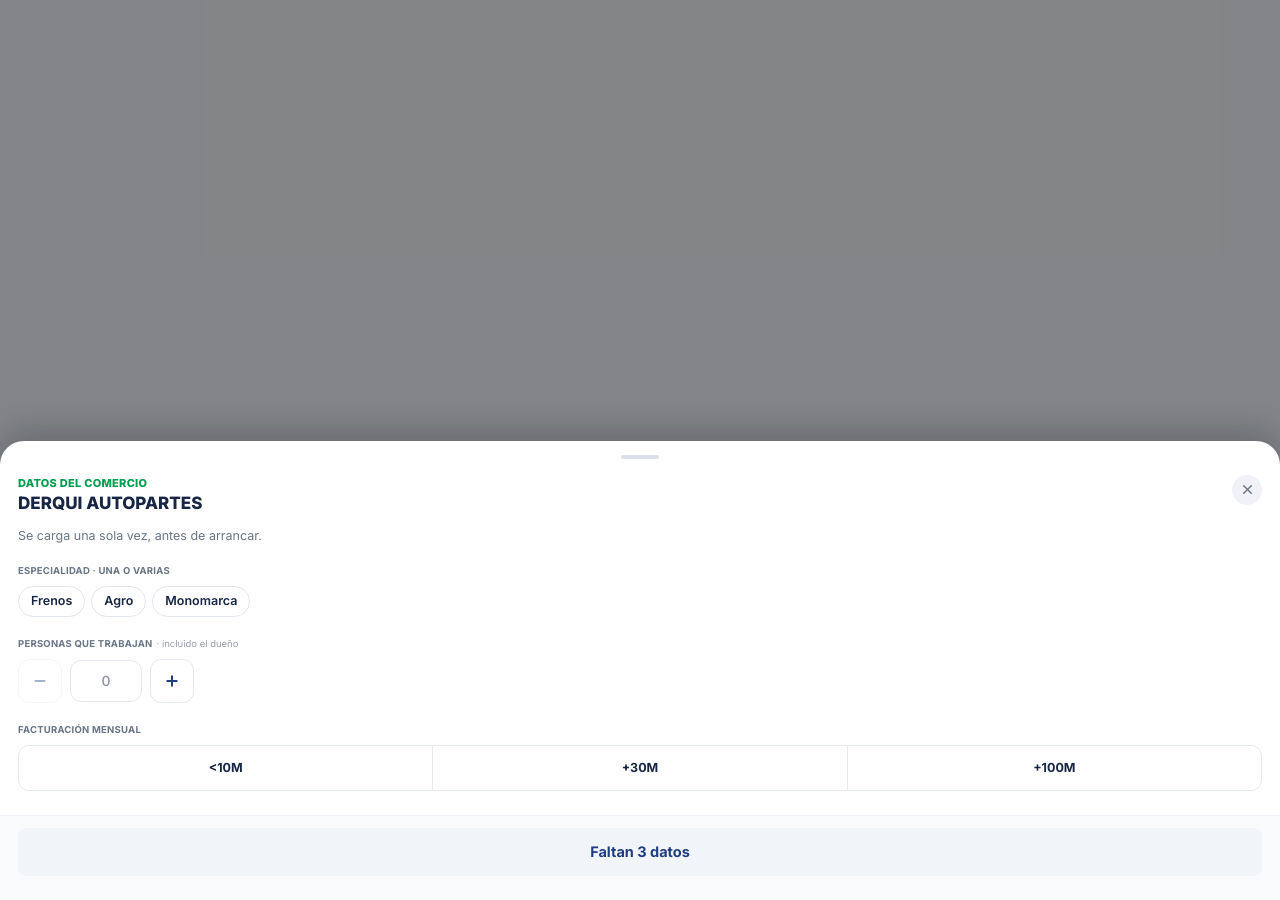
el stepper no pasa del máximo del catálogo, y sigue sobre un valor tipeado a mano
Type "40" into the field labelled "Personas que trabajan· incluido el dueño" at point(106, 681), box left=70, top=660, right=142, bottom=702
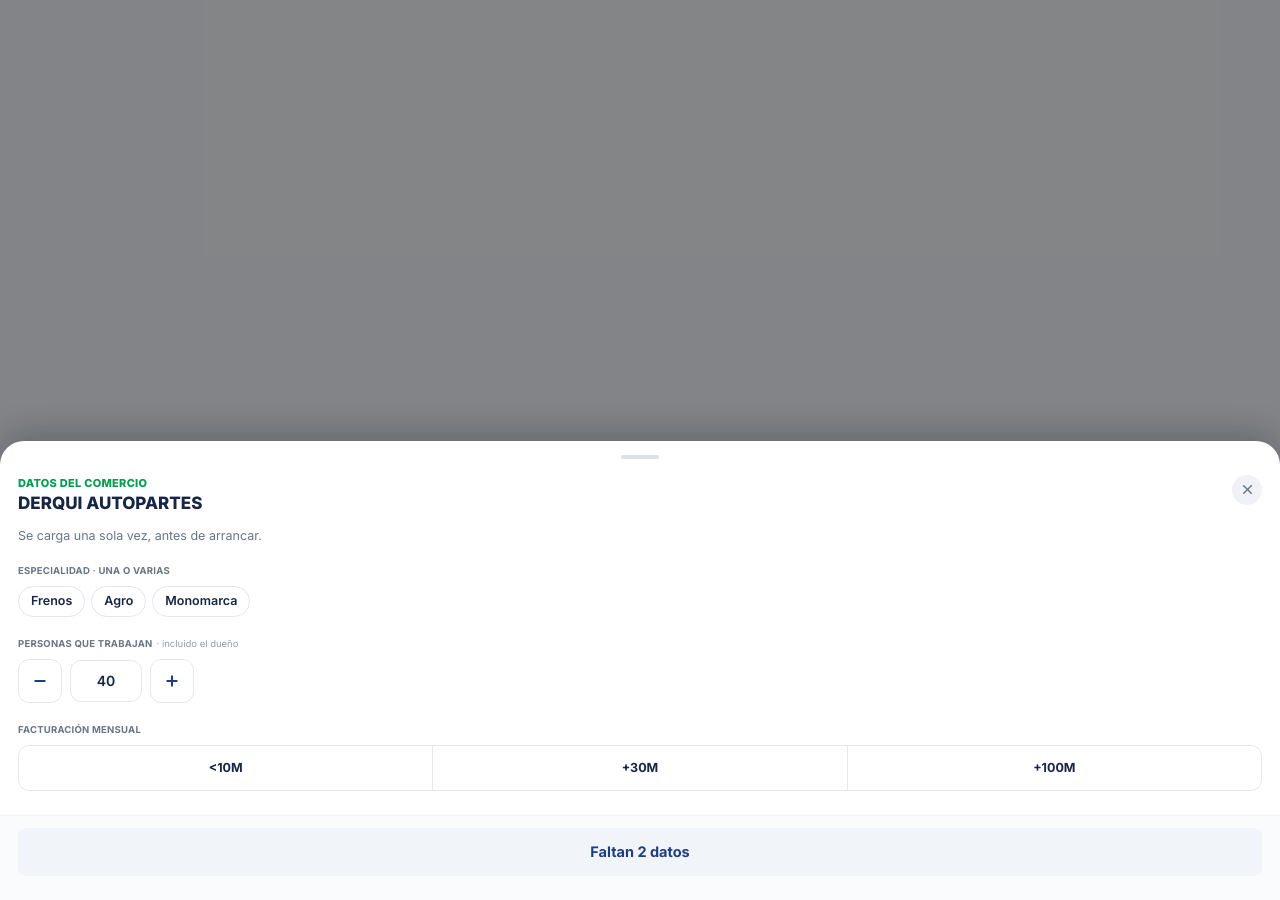
Click the button named "sumar en personas que trabajan" at point(172, 681), box left=150, top=659, right=194, bottom=703
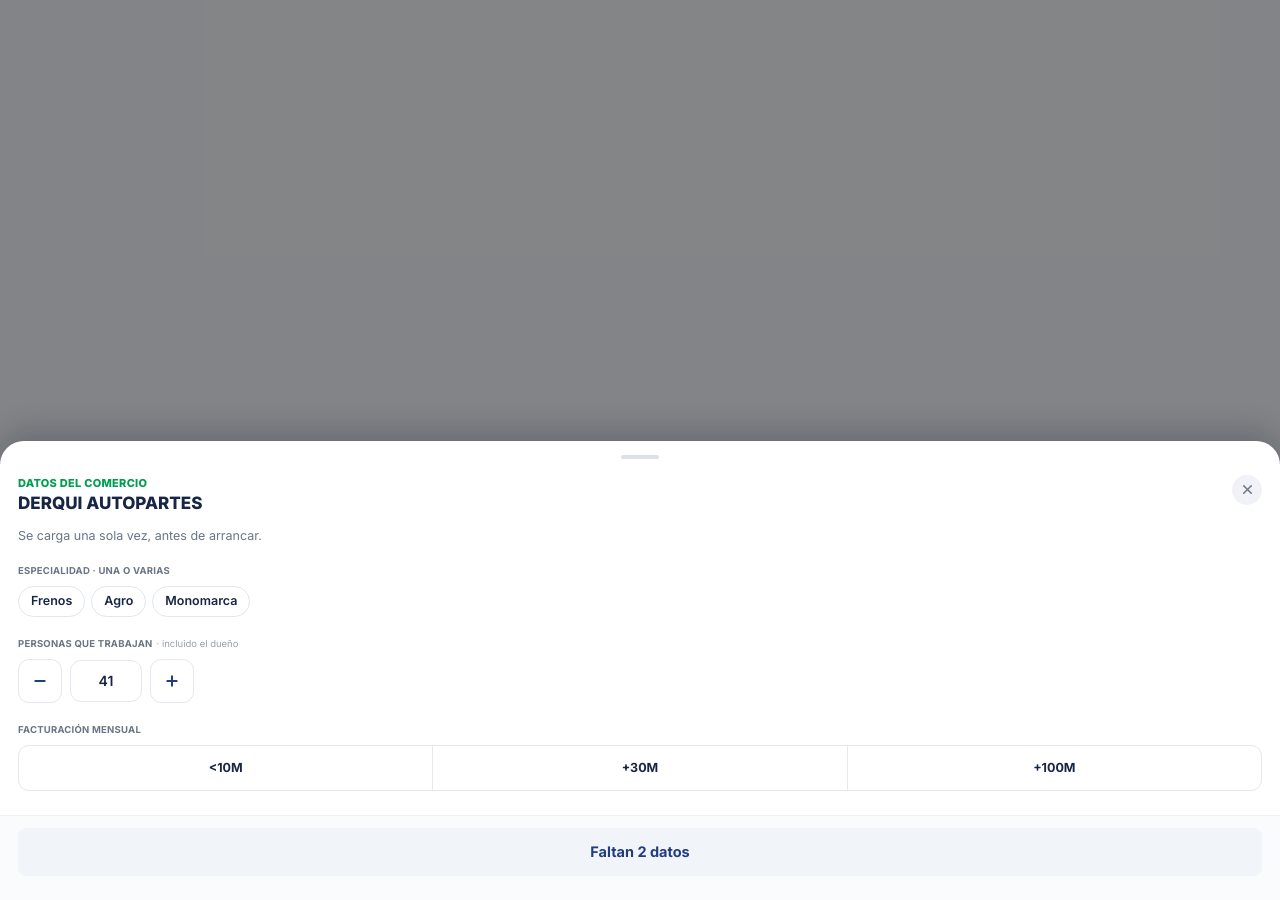
Now the field labelled "Personas que trabajan· incluido el dueño" holds "41"
Replace the text in the field labelled "Personas que trabajan· incluido el dueño" with "999" at point(106, 681), box left=70, top=660, right=142, bottom=702
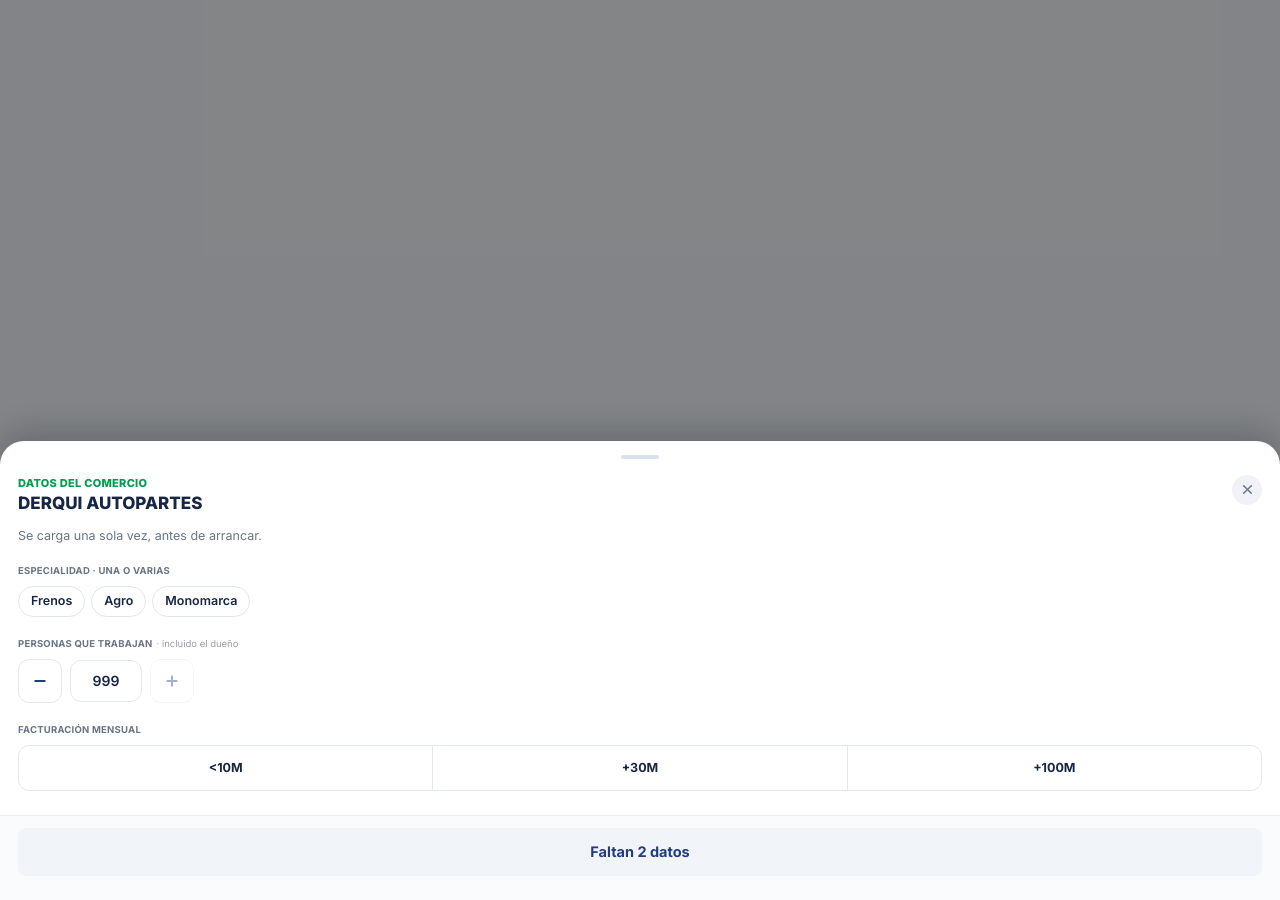
Now the button named "sumar en personas que trabajan" is disabled, box left=150, top=659, right=194, bottom=703
